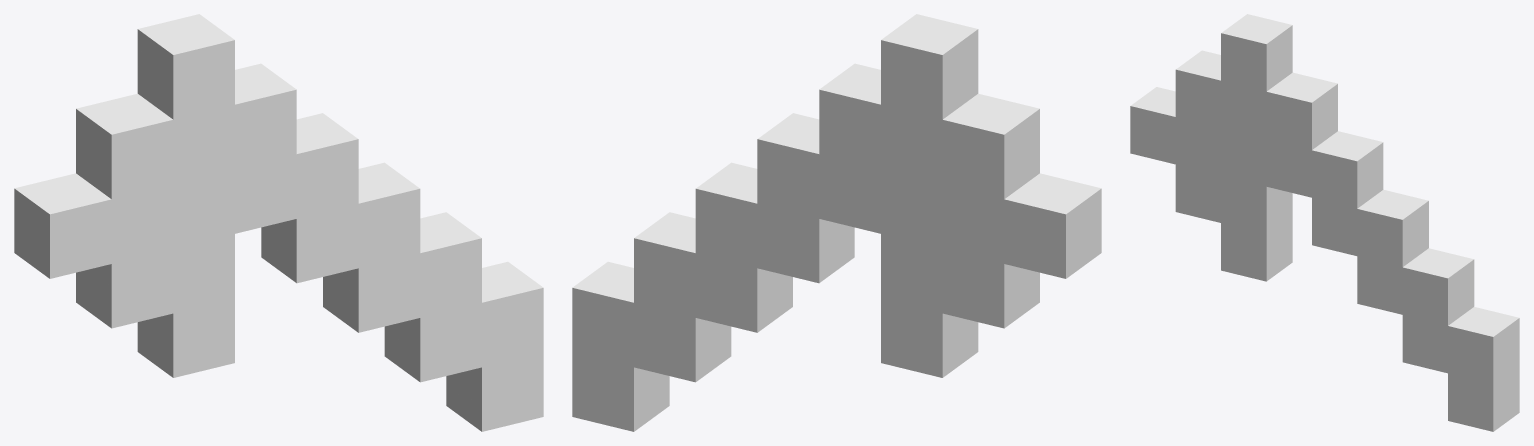
File: Axe-White.vox.obj
3 renders of one model, left to right at view 1: azimuth 30°, elevation 25°; view 2: azimuth 150°, elevation 25°; view 3: azimuth 330°, elevation 25°, orthographic. The views are drawn at different scales.
Bounding box in the file's own units: 0.8 × 0.7 × 0.1.
Materials: 1 (1 with a texture image).
